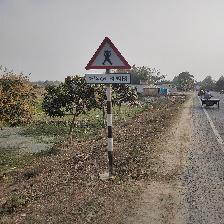Market-in-front: (84, 37, 132, 84)
